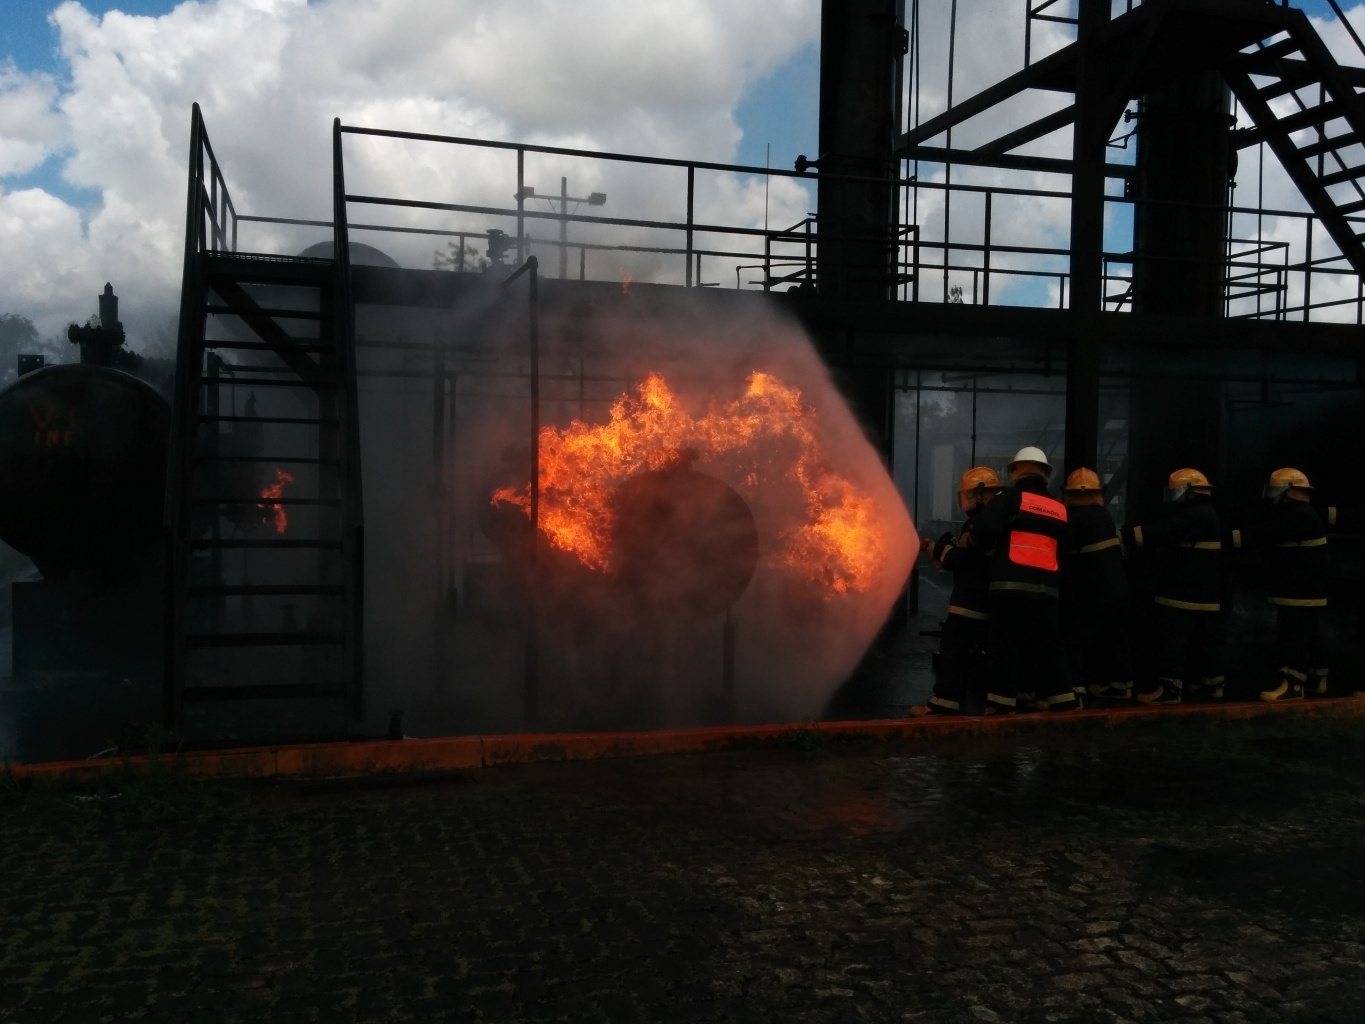fire: (490, 361, 906, 594), (254, 467, 298, 535)
